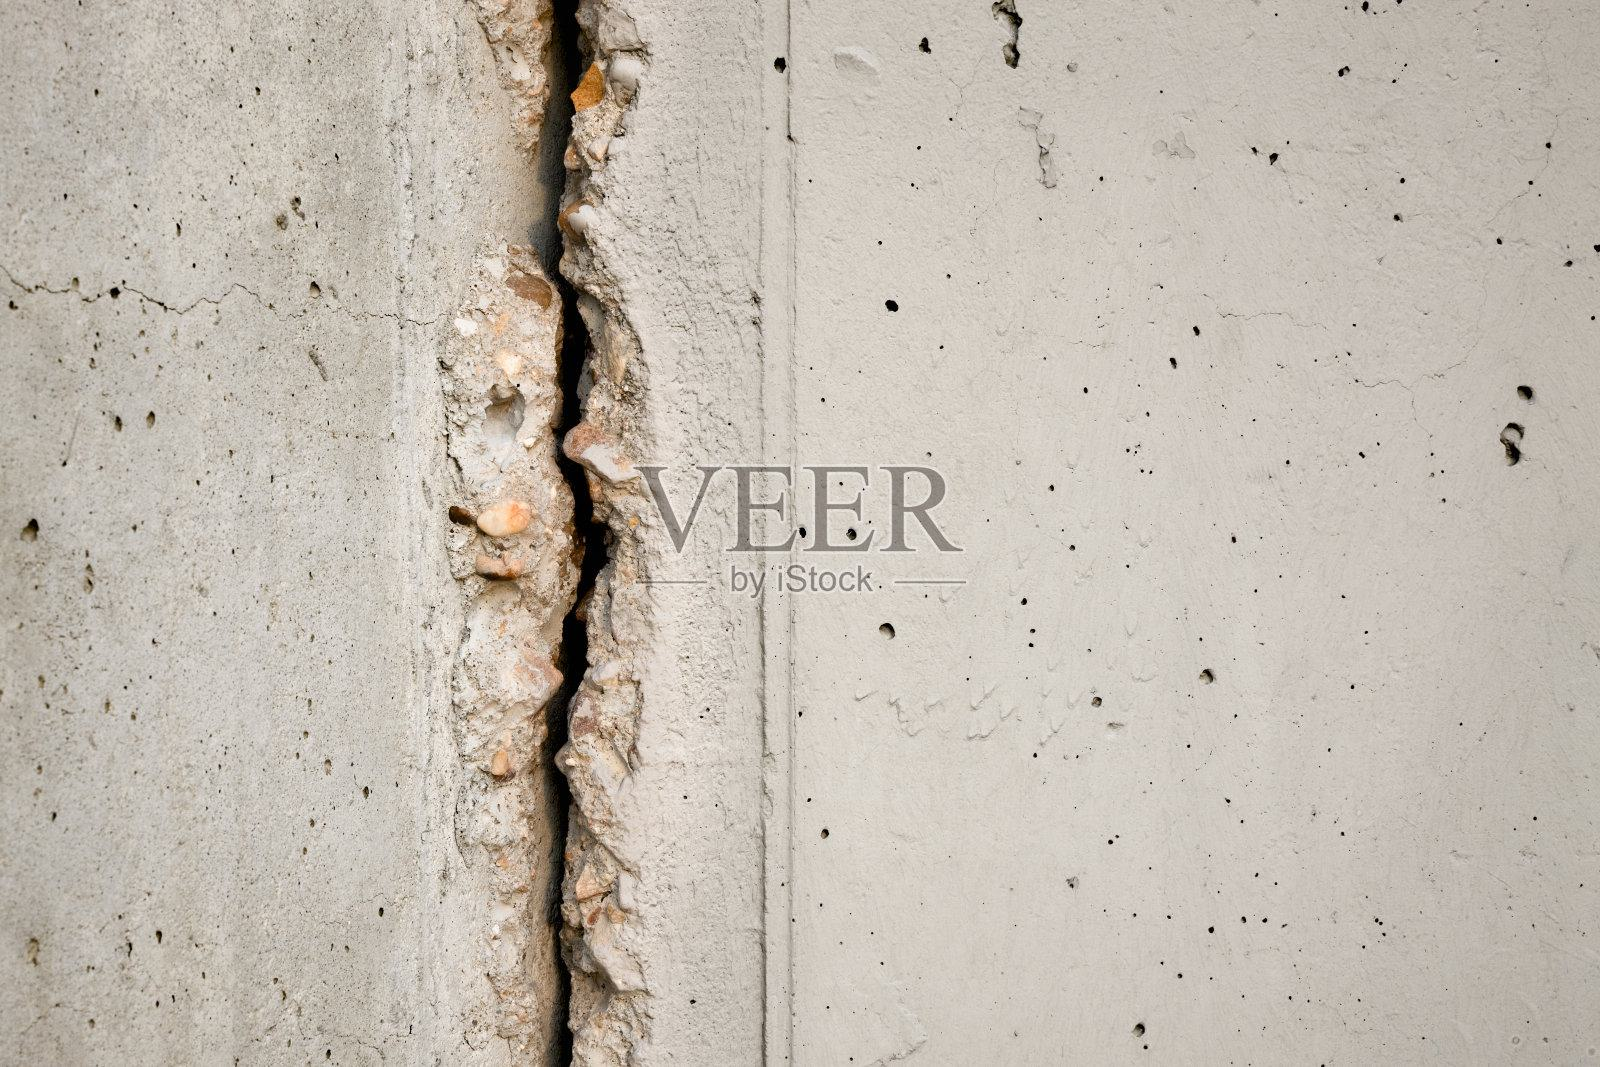Crack: (525, 1, 615, 1067), (1, 263, 489, 326)
Spalling: (771, 1, 1600, 1067), (1, 1, 525, 1067)
